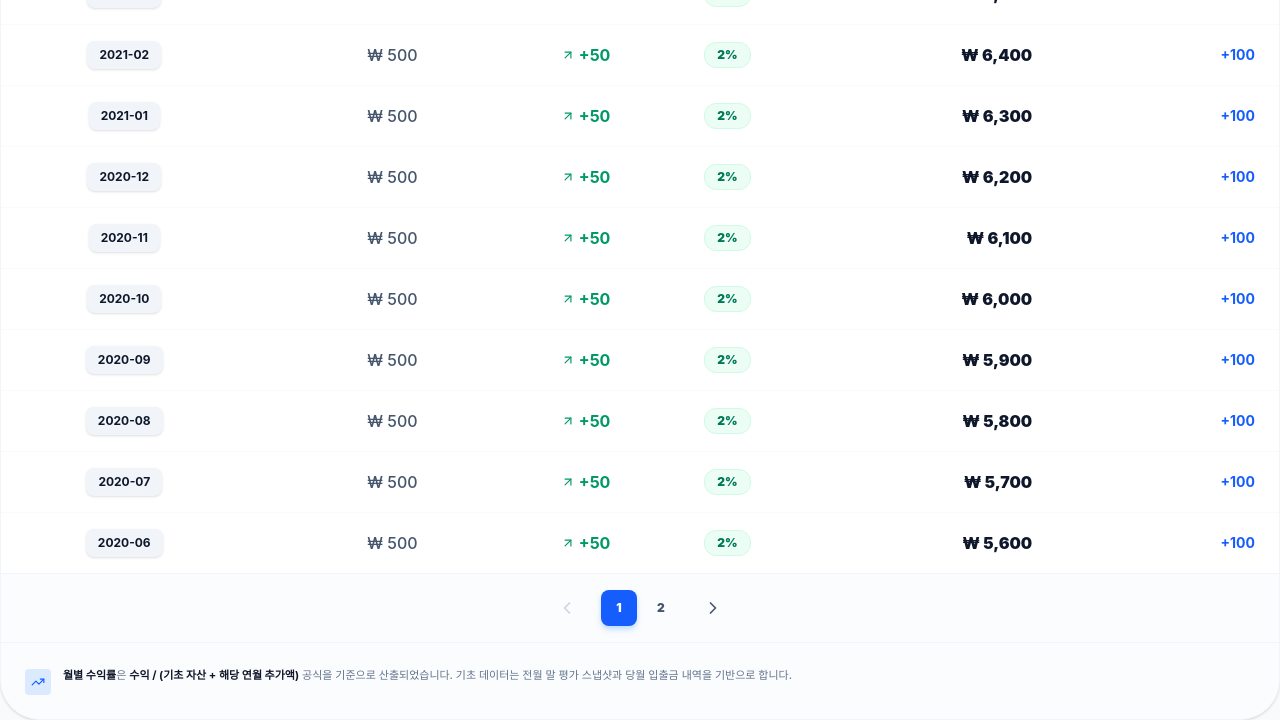
PerformanceTable › 2. type="status" & period="monthly" (월별 현황) › 10개 초과 시 월별 모드에서도 페이지네이션 컨트롤이 작동해야 한다
(page scrolled)
Step 1. Click the button named "다음 페이지" → {"x": 713, "y": 608}, box [695, 590, 731, 626]
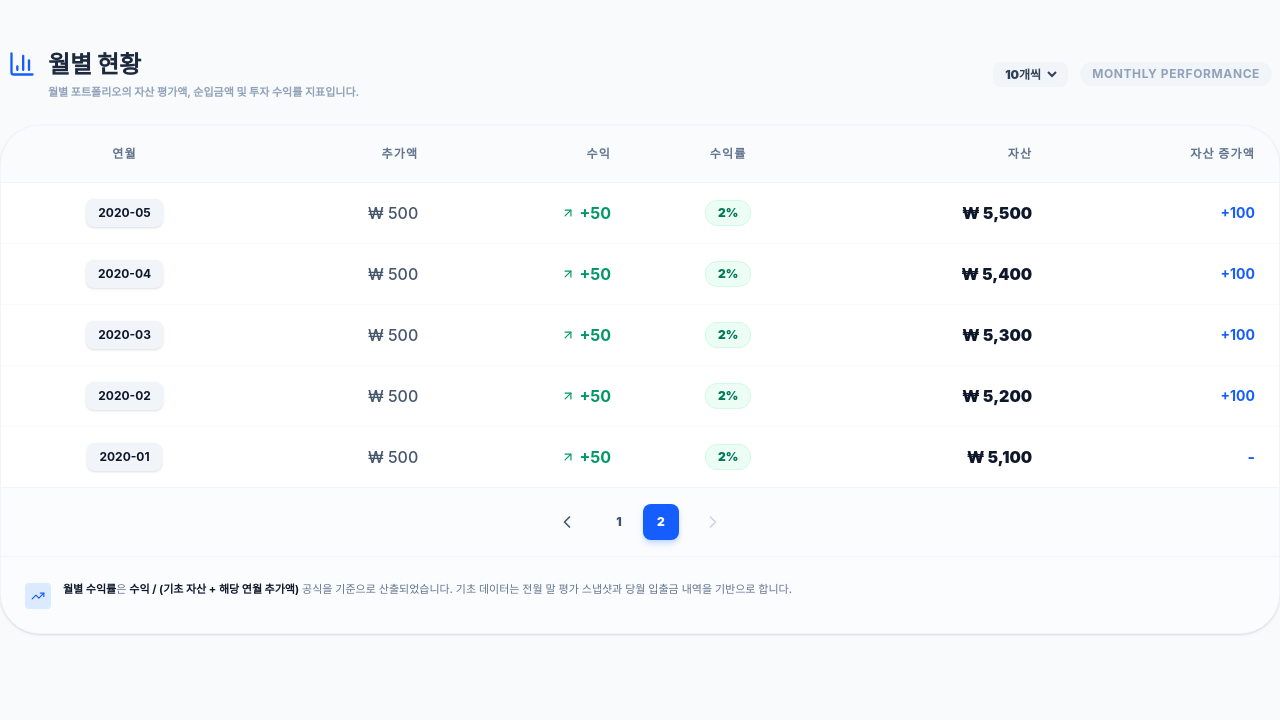
Expected: the number of rows is 6, [1, 126, 1279, 182]; [1, 182, 1279, 243]; [1, 243, 1279, 304]; [1, 304, 1279, 365]; [1, 365, 1279, 426]; [1, 426, 1279, 486]
